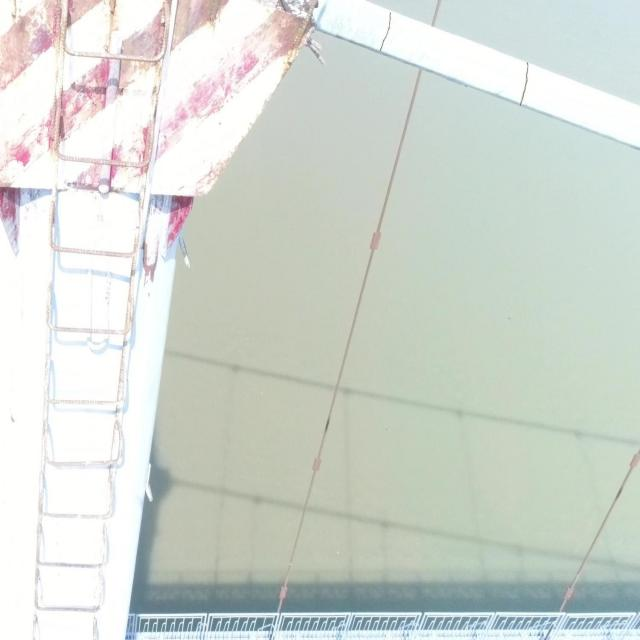crack: (518, 62, 531, 107), (379, 10, 392, 54)
